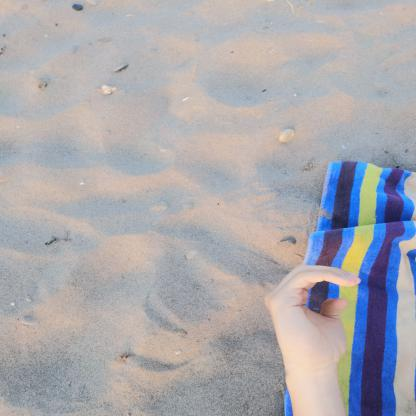JEEM: (253, 256, 371, 370)
